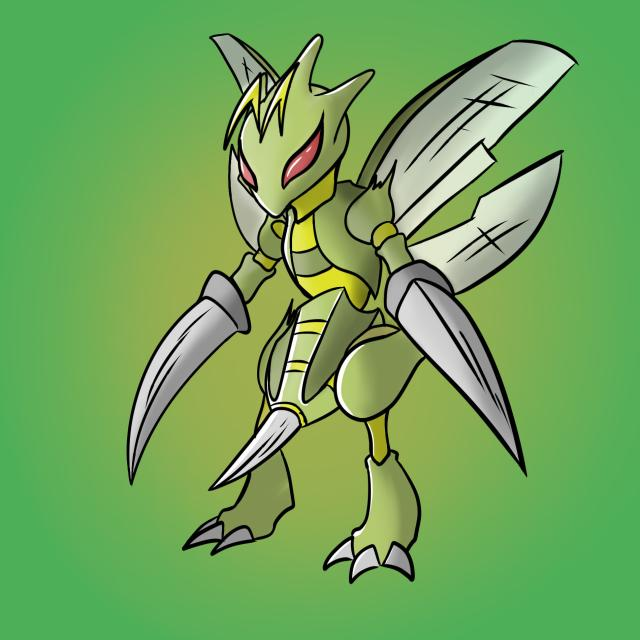Scyther: (184, 35, 536, 576)
